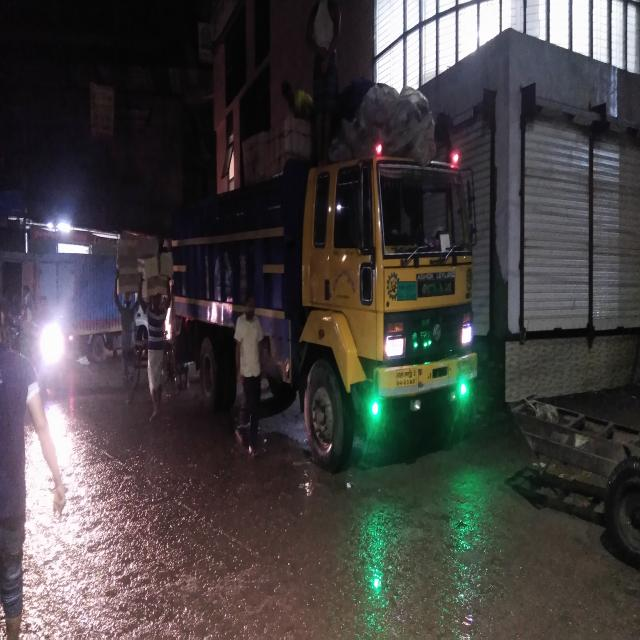truck: (164, 117, 477, 484)
